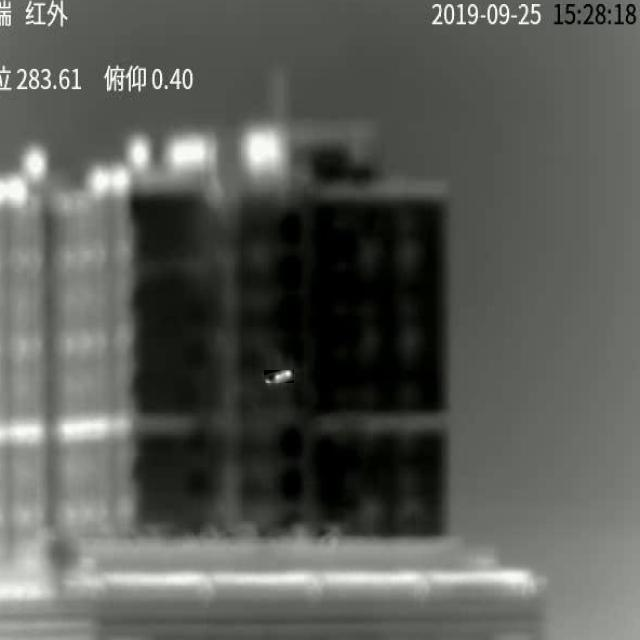drone: (265, 370, 293, 383)
